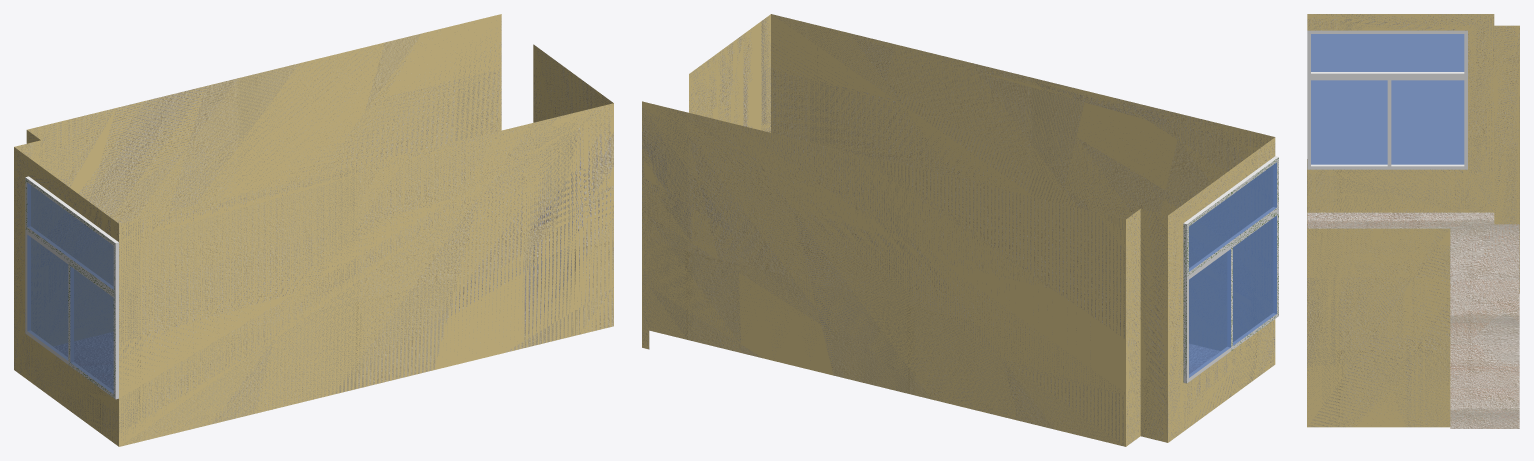
Rendered from DES035.obj.
3 views of the same model, side by side, from view 1: azimuth 30°, elevation 25°; view 2: azimuth 150°, elevation 25°; view 3: azimuth 270°, elevation 25° (orthographic). The views are drawn at different scales.
Parts seen in each view (by area): view 1: Mesh7 DES035 Model, Mesh1 ventana1_1 DES035 Model; view 2: Mesh7 DES035 Model, Mesh1 ventana1_1 DES035 Model; view 3: Mesh7 DES035 Model, Mesh1 ventana1_1 DES035 Model.
Boxes of the visible parts, bbox=[...] form: Mesh7 DES035 Model: bbox=[14, 14, 613, 446]; Mesh1 ventana1_1 DES035 Model: bbox=[25, 176, 118, 399]; Mesh7 DES035 Model: bbox=[642, 14, 1275, 446]; Mesh1 ventana1_1 DES035 Model: bbox=[1183, 156, 1278, 383]; Mesh7 DES035 Model: bbox=[1307, 14, 1519, 428]; Mesh1 ventana1_1 DES035 Model: bbox=[1307, 30, 1467, 169].
Size of the model in its own units: 7.11 by 3.25 by 2.91.
6 materials, 2 textured.
